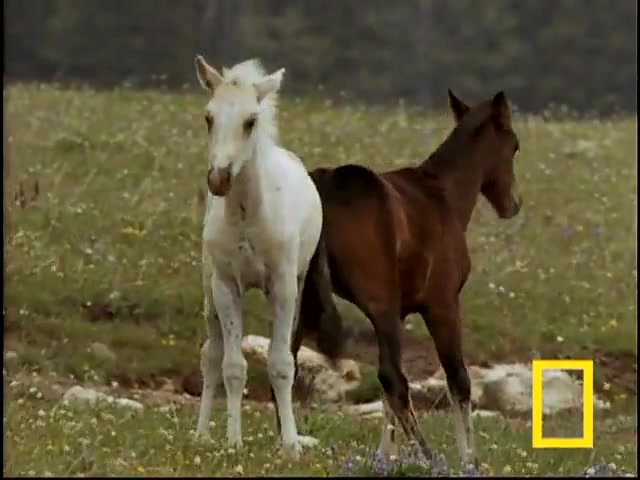horse: (195, 56, 325, 462)
